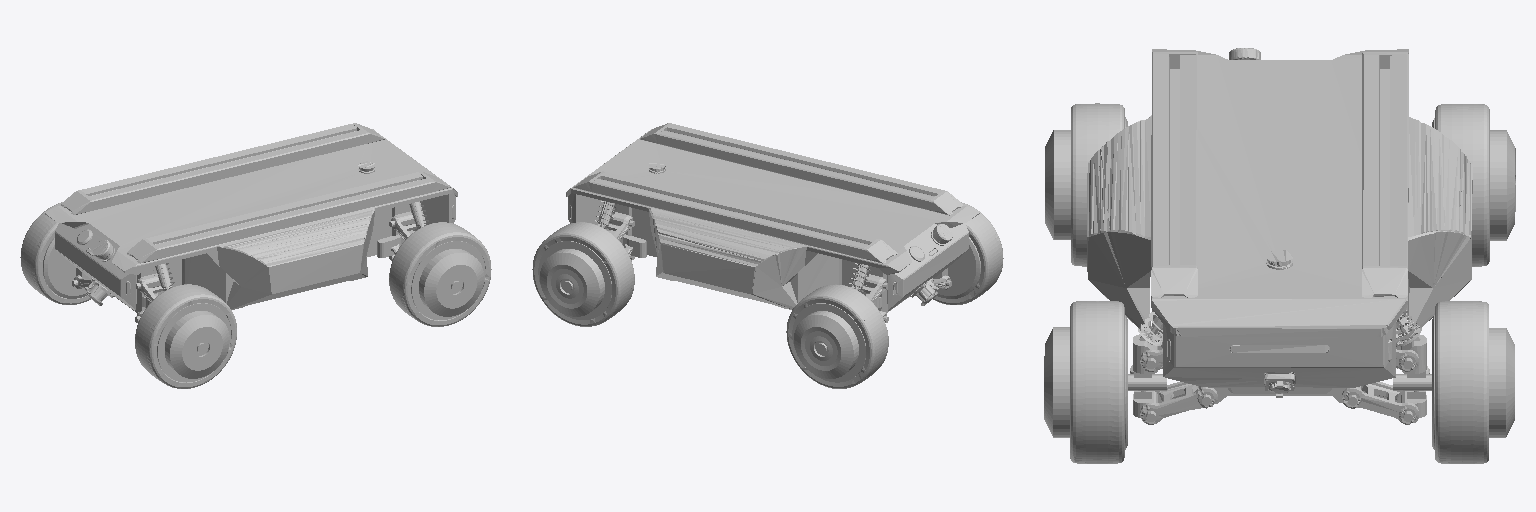
The robot description file, URDF, robot "yhs_chassis_description":
<robot name="yhs_chassis_description">
  <link name="base_link">
    <visual>
      <origin
        xyz="-0.25 -0.2 0"
        rpy="1.57 0 1.57" />
      <geometry>
        <mesh
          filename="package://yhs_chassis_description/meshes/FR-mini.STL"/>
      </geometry>
      <material
        name="">
        <color
          rgba="0.8 0.8 0.8 1" />
      </material>
    </visual>
  </link>
</robot>

--- Render facts (derived) ---
The picture shows the robot from 3 angles, left to right: view 1: azimuth 30°, elevation 25°; view 2: azimuth 150°, elevation 25°; view 3: azimuth 270°, elevation 25°; orthographic projection.
Robot: yhs_chassis_description — 1 links, 0 joints (none); root link base_link; default pose: every joint at zero.
Visible links, largest first — view 1: base_link; view 2: base_link; view 3: base_link.
Link boxes in pixels (left/top/right/bottom): base_link: left=20, top=123, right=491, bottom=388; base_link: left=532, top=123, right=1003, bottom=388; base_link: left=1044, top=48, right=1515, bottom=463.
Size in the robot's own frame: 0.5415 by 0.4031 by 0.1873 metres.
1 mesh visuals loaded from 1 distinct referenced files (1 binary STL).
